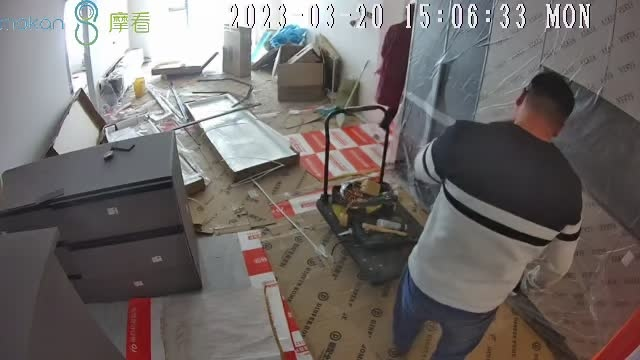people: (389, 71, 584, 360)
window: (102, 1, 301, 60)
